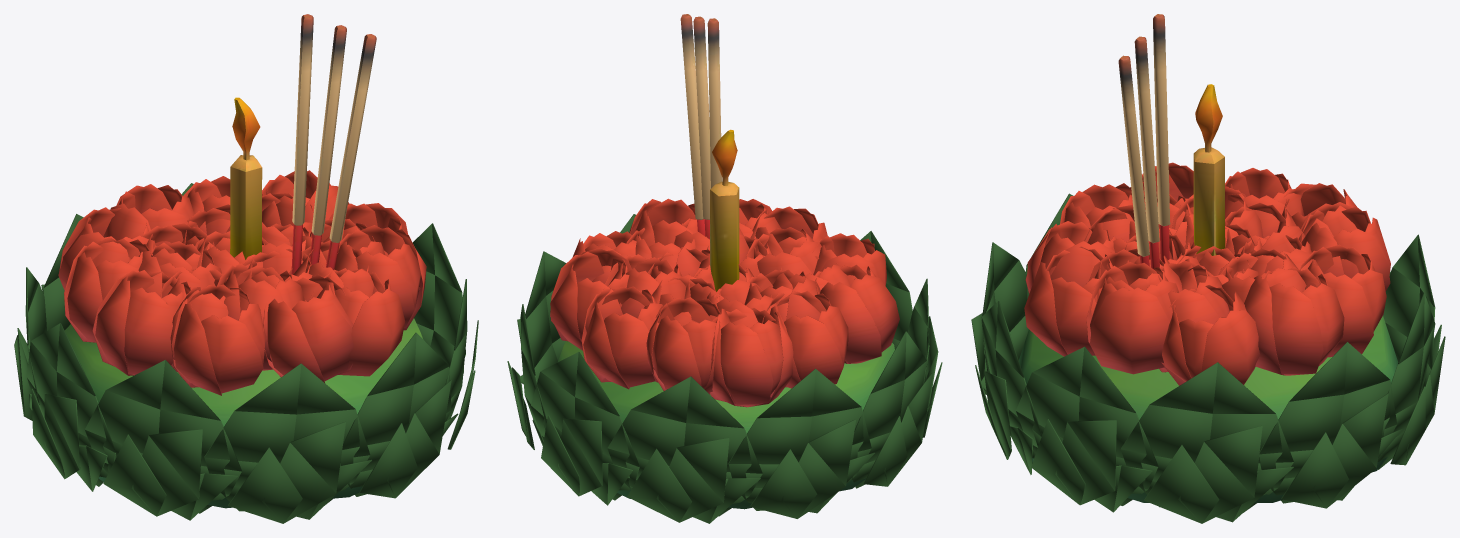
3 renders of one model, left to right at view 1: azimuth 30°, elevation 25°; view 2: azimuth 150°, elevation 25°; view 3: azimuth 270°, elevation 25°, orthographic. The views are drawn at different scales.
Parts seen in each view (by area): view 1: Flower_017_Base_Material_0_002, Flower_024_Base_Material_0_001_008, Flower_024_Base_Material_0_001_009, Object_0_001, Flower_024_Base_Material_0_001, Flower_024_Base_Material_0_001_005, Flower_017_Base_Material_0, Flower_024_Base_Material_0_001_003, Flower_024_Base_Material_0_001_004, Flower_024_Base_Material_0_001_001, Flower_024_Base_Material_0_001_006; view 2: Flower_017_Base_Material_0_002, Flower_024_Base_Material_0_001_006, Flower_024_Base_Material_0_001_004, Object_0_001, Flower_024_Base_Material_0_001_007, Flower_024_Base_Material_0_001_005, Flower_017_Base_Material_0, Flower_024_Base_Material_0_001_003, Flower_024_Base_Material_0_001_002, Flower_024_Base_Material_0_001_009, Flower_024_Base_Material_0_001_008; view 3: Flower_017_Base_Material_0_002, Flower_024_Base_Material_0_001_003, Flower_024_Base_Material_0_001_001, Flower_024_Base_Material_0_001_002, Object_0_001, Flower_017_Base_Material_0, Flower_024_Base_Material_0_001_007, Flower_024_Base_Material_0_001, Flower_024_Base_Material_0_001_006, Flower_024_Base_Material_0_001_008.
Boxes of the visible parts, box(x1,y1,x2,y2) form: Flower_017_Base_Material_0_002: box(58, 170, 426, 395); Flower_024_Base_Material_0_001_008: box(204, 363, 371, 523); Flower_024_Base_Material_0_001_009: box(84, 360, 241, 520); Object_0_001: box(230, 14, 376, 274); Flower_024_Base_Material_0_001: box(340, 332, 458, 498); Flower_024_Base_Material_0_001_005: box(27, 323, 115, 491); Flower_017_Base_Material_0: box(64, 318, 422, 508); Flower_024_Base_Material_0_001_003: box(412, 223, 465, 367); Flower_024_Base_Material_0_001_004: box(14, 267, 46, 420); Flower_024_Base_Material_0_001_001: box(445, 279, 478, 449); Flower_024_Base_Material_0_001_006: box(41, 214, 83, 330); Flower_017_Base_Material_0_002: box(550, 198, 899, 407); Flower_024_Base_Material_0_001_006: box(607, 376, 762, 523); Flower_024_Base_Material_0_001_004: box(728, 368, 874, 518); Object_0_001: box(680, 14, 739, 291); Flower_024_Base_Material_0_001_007: box(531, 351, 639, 505); Flower_024_Base_Material_0_001_005: box(850, 331, 932, 488); Flower_017_Base_Material_0: box(557, 341, 894, 509); Flower_024_Base_Material_0_001_003: box(517, 251, 566, 384); Flower_024_Base_Material_0_001_002: box(507, 304, 546, 449); Flower_024_Base_Material_0_001_009: box(907, 278, 942, 437); Flower_024_Base_Material_0_001_008: box(860, 231, 912, 349); Flower_017_Base_Material_0_002: box(1024, 162, 1390, 385); Flower_024_Base_Material_0_001_003: box(1120, 362, 1293, 523); Flower_024_Base_Material_0_001_001: box(1016, 346, 1158, 512); Flower_024_Base_Material_0_001_002: box(1259, 342, 1402, 508); Object_0_001: box(1118, 14, 1225, 268); Flower_017_Base_Material_0: box(1019, 316, 1398, 502); Flower_024_Base_Material_0_001_007: box(1377, 293, 1445, 469); Flower_024_Base_Material_0_001: box(975, 300, 1041, 474); Flower_024_Base_Material_0_001_006: box(1383, 234, 1441, 394); Flower_024_Base_Material_0_001_008: box(971, 242, 1028, 394).
Size of the model in its own units: 0.1951 by 0.2011 by 0.1953.
Materials: 13 (3 with a texture image).
